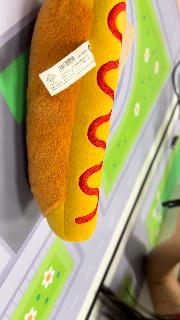hotdog: (26, 1, 128, 243)
